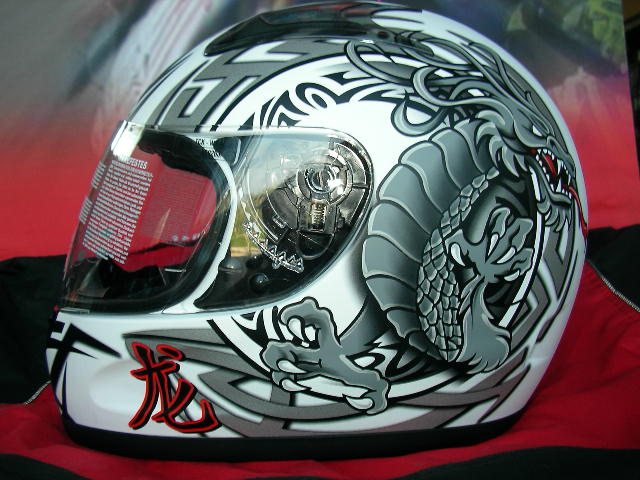helmet: (87, 17, 568, 445)
